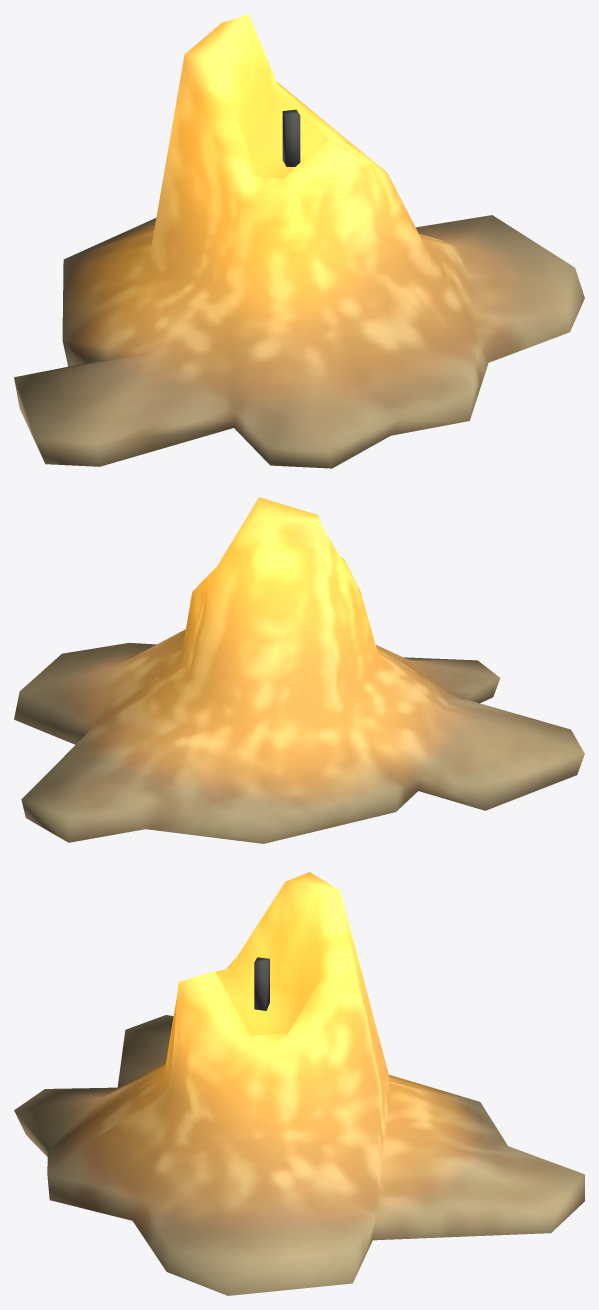
Rendered from Candle_S.fbx.
3 renders of one model, top to bottom at view 1: azimuth 30°, elevation 25°; view 2: azimuth 150°, elevation 25°; view 3: azimuth 270°, elevation 25°, orthographic. The views are drawn at different scales.
Parts seen in each view (by area): view 1: Candle_S; view 2: Candle_S; view 3: Candle_S.
Boxes of the visible parts, <box> form: Candle_S: <box>14,14,584,468</box>; Candle_S: <box>14,497,584,843</box>; Candle_S: <box>14,872,584,1295</box>.
Size of the model in its own units: 91.33 by 47.92 by 85.84.
